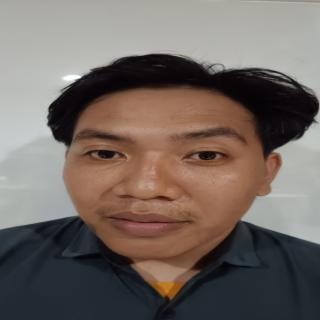Takut: (58, 76, 277, 266)
